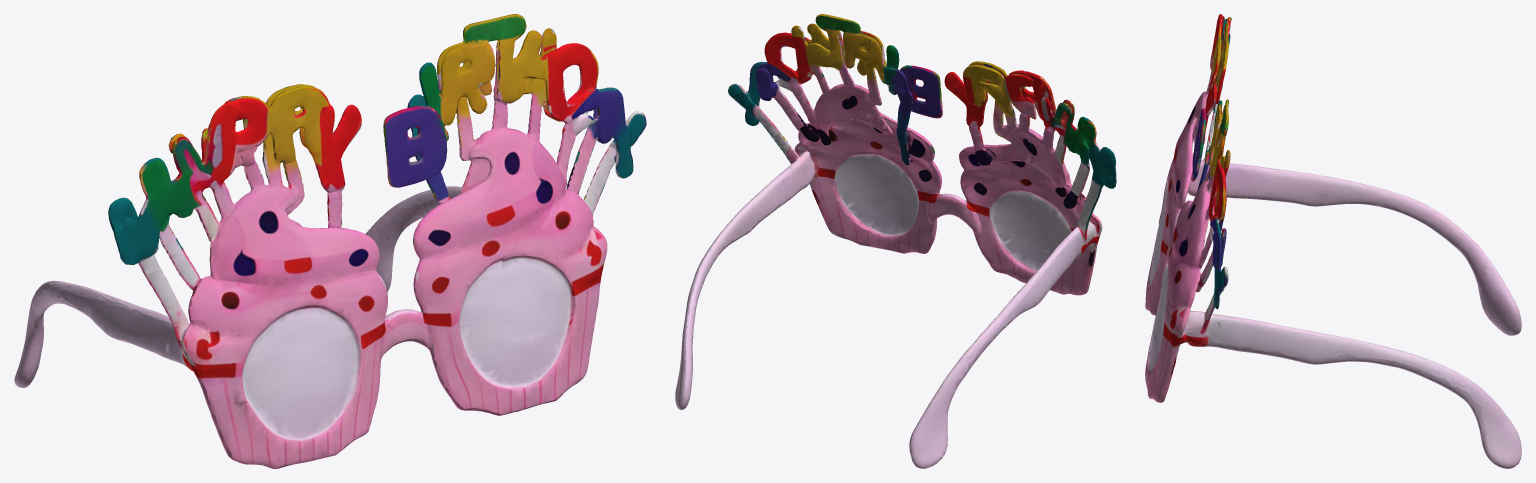
The model's file is glass-compressed.glb.
3 renders of one model, left to right at view 1: azimuth 30°, elevation 25°; view 2: azimuth 150°, elevation 25°; view 3: azimuth 270°, elevation 25°, orthographic. The views are drawn at different scales.
Visible parts, largest first — view 1: textured_mesh; view 2: textured_mesh; view 3: textured_mesh.
Part boxes in pixels (x1,y1,x2,y2): textured_mesh: (14,14,646,468); textured_mesh: (675,14,1116,468); textured_mesh: (1145,14,1521,468).
Size of the model in its own units: 1.93 by 1.46 by 1.45.
Materials: 1 (1 with a texture image).
